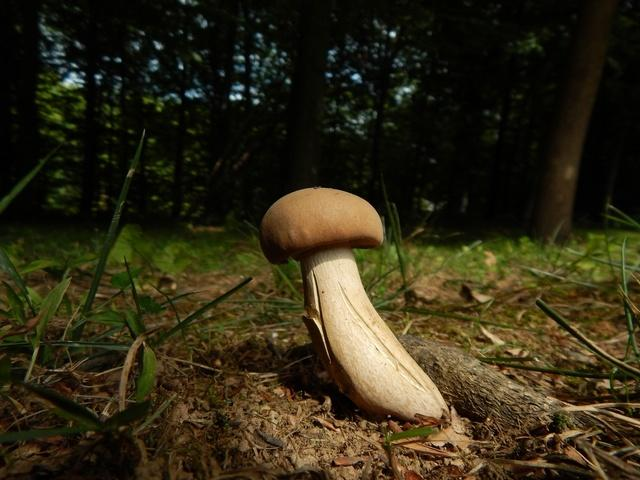Non-edible Mushroom: (257, 184, 452, 424)
